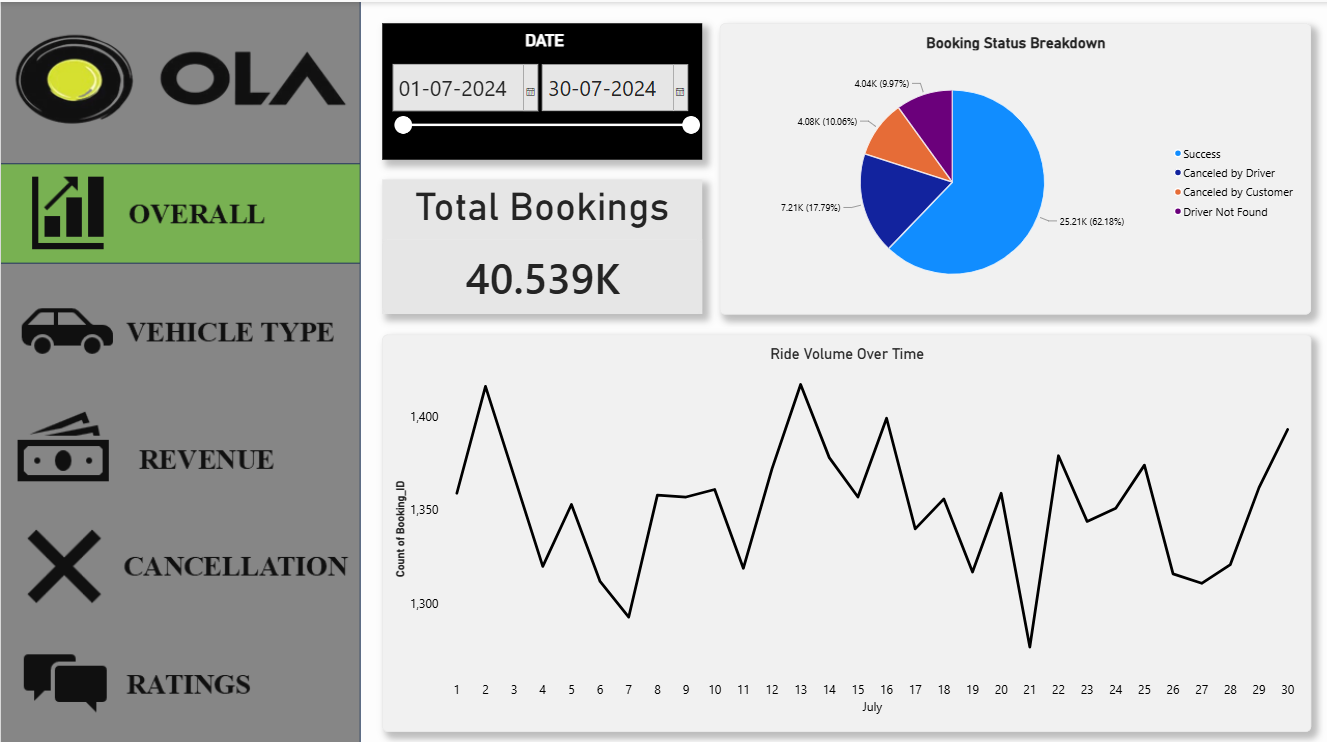

The dashboard page shown, as its layout file describes it:
{"tool":"powerbi","page":{"name":"overall","canvas":[1920,1080],"ordinal":0},"visuals":[{"type":"actionButton","box":[0,407.2,519.4,148.4],"z":0},{"type":"actionButton","box":[0,586.3,519.4,152],"z":1000},{"type":"actionButton","box":[0,738.3,519.4,150.2],"z":2000},{"type":"actionButton","box":[0,910.3,519.4,146.6],"z":3000},{"type":"lineChart","title":"Ride Volume Over Time","fields":{"Category":["Bookings-40000-Rows-July.Date.Variation.Date Hierarchy.Month","Bookings-40000-Rows-July.Date.Variation.Date Hierarchy.Day"],"Y":["CountNonNull(Bookings-40000-Rows-July.Booking_ID)"]},"box":[551.9,481.4,1344.6,575.5],"z":4000},{"type":"pieChart","title":"Booking Status Breakdown","fields":{"Category":["Bookings-40000-Rows-July.Booking_Status"],"Y":["CountNonNull(Bookings-40000-Rows-July.Booking_Status)"]},"box":[1040.6,30.8,856,421.7],"z":5000},{"type":"cardVisual","title":"Total Bookings","fields":{"Data":["Count(Bookings-40000-Rows-July.Booking_ID)"]},"box":[551.9,257.5,463.1,194.8],"z":6000},{"type":"slicer","title":"DATE","fields":{"Values":["Bookings-40000-Rows-July.Date"]},"box":[551.9,30.8,463.3,197.3],"z":7000}]}

Visuals, with their boxes in screenshot pixels (x1, y1, x2, y2), scaled from the page's 1920x1080 canvas onto the 1327x742 screenshot:
actionButton: bbox=[0, 280, 359, 382]
actionButton: bbox=[0, 403, 359, 507]
actionButton: bbox=[0, 507, 359, 610]
actionButton: bbox=[0, 625, 359, 726]
"Ride Volume Over Time" lineChart: bbox=[381, 331, 1311, 726]
"Booking Status Breakdown" pieChart: bbox=[719, 21, 1311, 311]
"Total Bookings" cardVisual: bbox=[381, 177, 702, 311]
"DATE" slicer: bbox=[381, 21, 702, 157]
